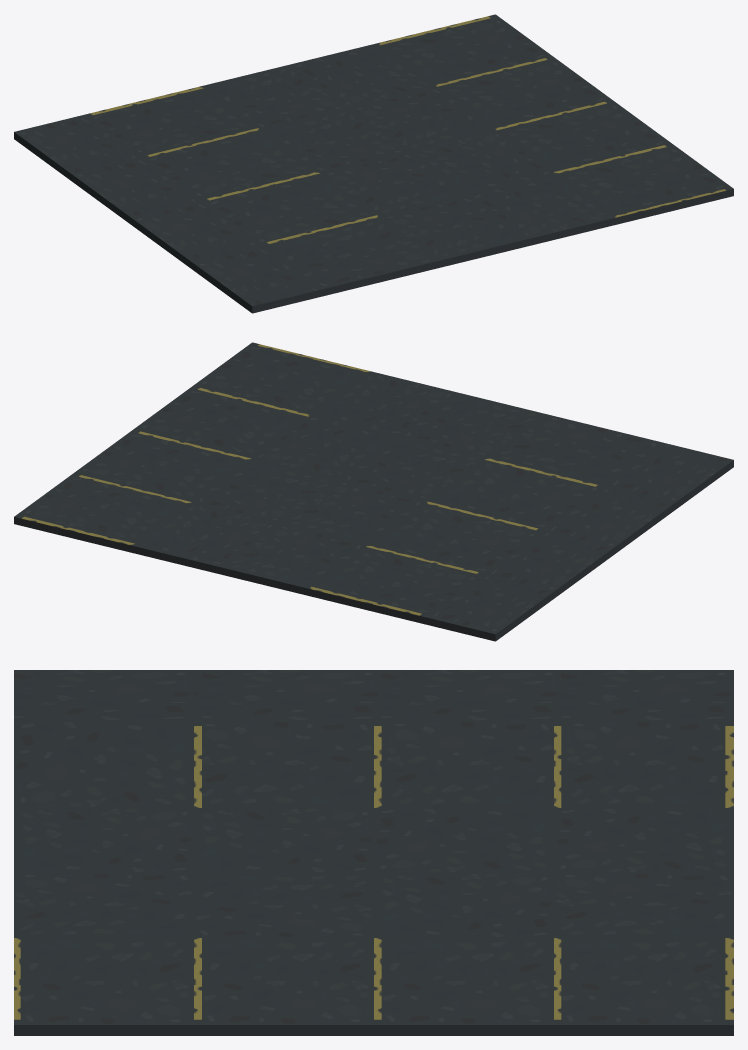
The model's file is Floor.fbx.
3 views of the same model, one above another, from view 1: azimuth 30°, elevation 25°; view 2: azimuth 150°, elevation 25°; view 3: azimuth 270°, elevation 25° (orthographic). The views are drawn at different scales.
Visible parts, largest first — view 1: Floor; view 2: Floor; view 3: Floor.
Part boxes in pixels (x1,y1,x2,y2): Floor: [14, 14, 733, 313]; Floor: [14, 342, 733, 641]; Floor: [14, 670, 733, 1035].
Size of the model in its own units: 1400 by 20.11 by 1200.
Materials: 1 (1 with a texture image).
